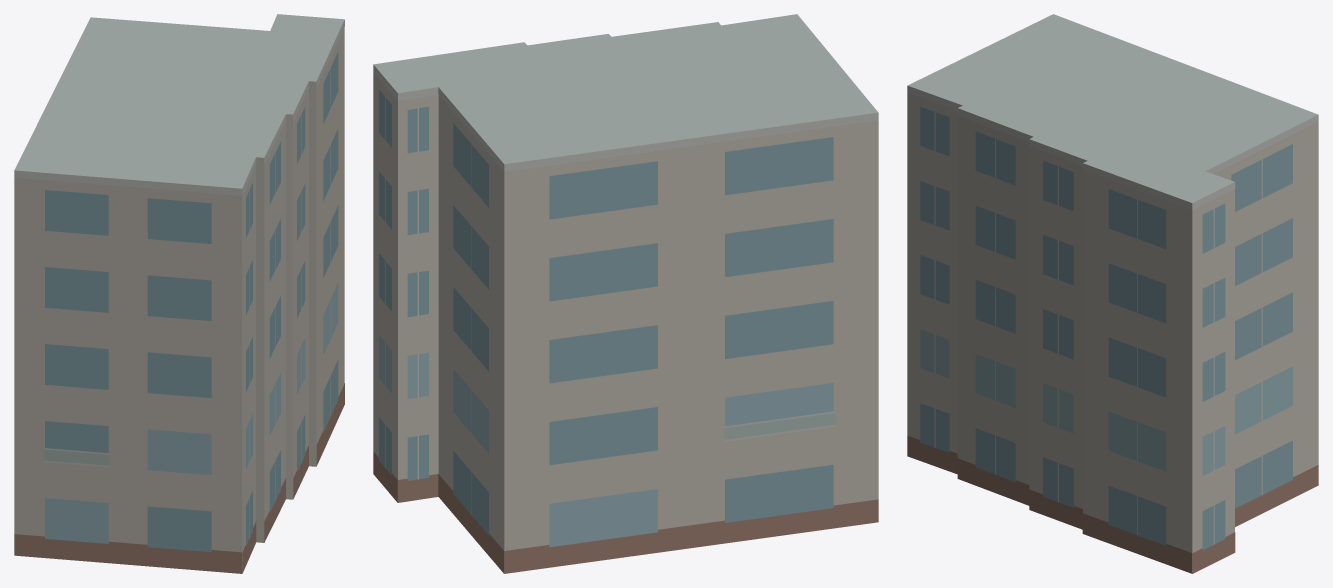
File: survey-upis-32665617.glb
3 renders of one model, left to right at view 1: azimuth 30°, elevation 25°; view 2: azimuth 150°, elevation 25°; view 3: azimuth 270°, elevation 25°, orthographic. The views are drawn at different scales.
Parts seen in each view (by area): view 1: survey-upis-32665617.tmp; view 2: survey-upis-32665617.tmp; view 3: survey-upis-32665617.tmp.
Boxes of the visible parts, x1,y1,x2,y2 form: survey-upis-32665617.tmp: (14,14,344,573); survey-upis-32665617.tmp: (373,14,878,573); survey-upis-32665617.tmp: (907,14,1318,573).
Size of the model in its own units: 14.33 by 13.09 by 13.17.
